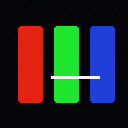3 line_h: (51, 76, 99, 78)
